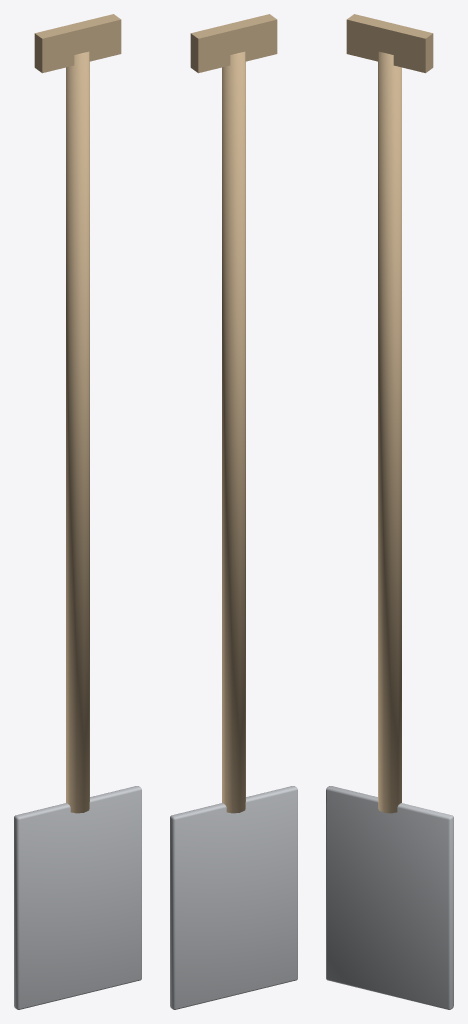
The model's file is tool_spade.glb.
3 renders of one model, left to right at view 1: azimuth 30°, elevation 25°; view 2: azimuth 210°, elevation 25°; view 3: azimuth 330°, elevation 25°, orthographic.
Visible parts, largest first — view 1: Cube.001, Cylinder, Cube; view 2: Cube.001, Cylinder, Cube; view 3: Cube.001, Cylinder, Cube.
Boxes of the visible parts, x1=… form: Cube.001: x1=14, y1=786, x2=141, y2=1009; Cylinder: x1=66, y1=51, x2=89, y2=813; Cube: x1=34, y1=14, x2=121, y2=73; Cube.001: x1=170, y1=786, x2=297, y2=1009; Cylinder: x1=222, y1=51, x2=245, y2=813; Cube: x1=190, y1=14, x2=277, y2=73; Cube.001: x1=326, y1=786, x2=453, y2=1009; Cylinder: x1=378, y1=51, x2=401, y2=813; Cube: x1=346, y1=14, x2=433, y2=73.
Size of the model in its own units: 0.19 by 1.41 by 0.032.
